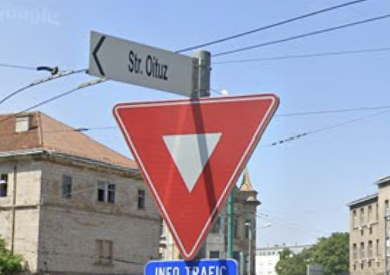cedeaza: (102, 86, 285, 265)
